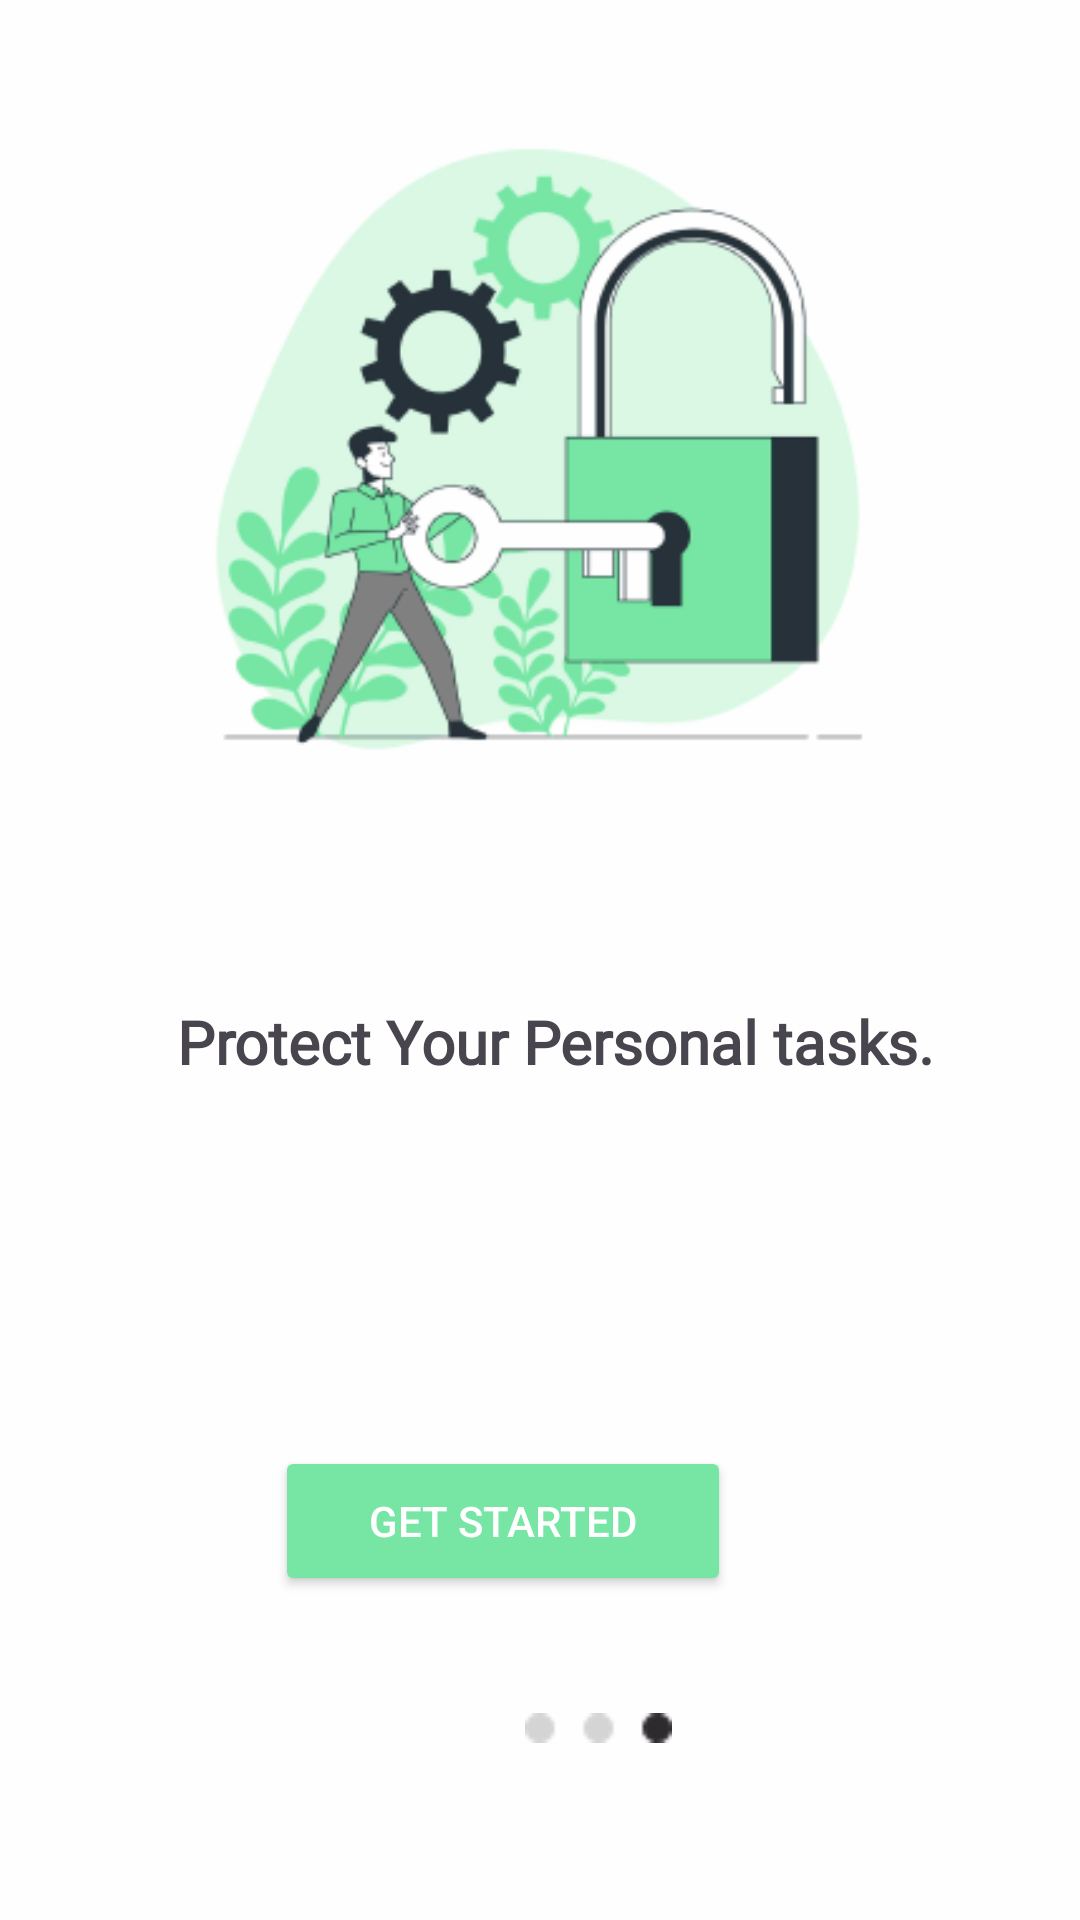

Icon bounding boxes for this 1080 x 1920 phone screenshot, format (x1, y1, x2, y2):
dot: (525, 1713, 672, 1743)
